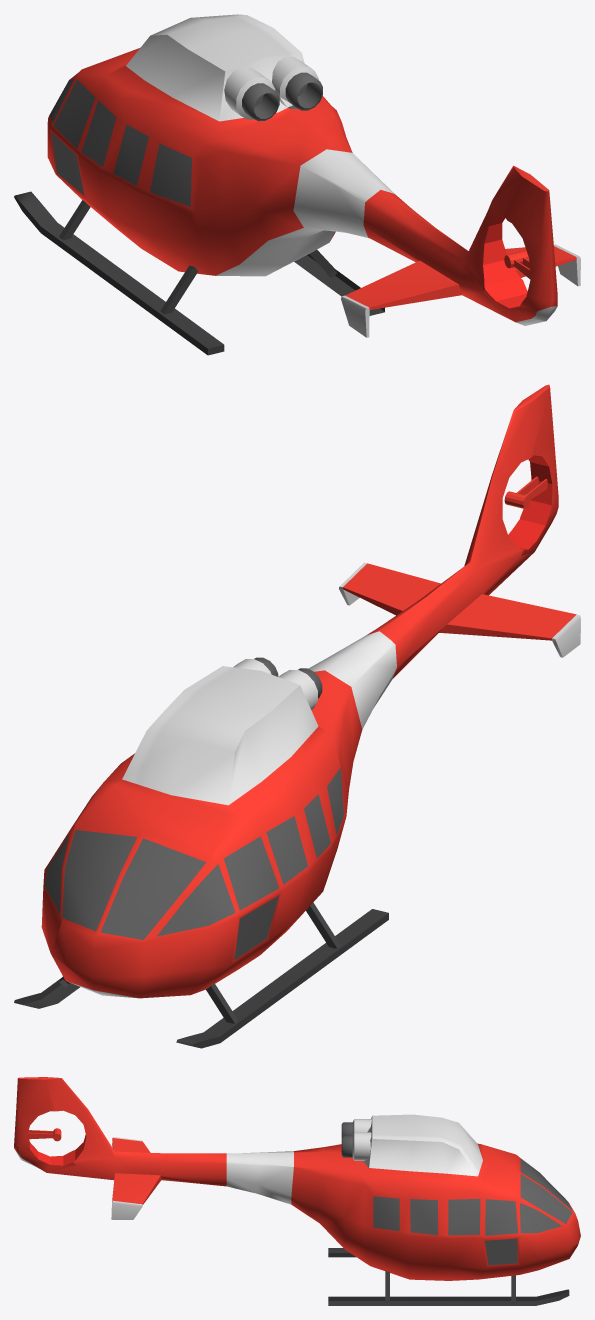
The model's file is HelicopterBody.obj.
3 views of the same model, one above another, from view 1: azimuth 30°, elevation 25°; view 2: azimuth 150°, elevation 25°; view 3: azimuth 270°, elevation 25° (orthographic). The views are drawn at different scales.
Parts seen in each view (by area): view 1: Copter, Legs, Cylinder, Tail_part; view 2: Copter, Legs, Cylinder; view 3: Copter, Legs, Cylinder, Tail_part.
Part boxes in pixels (left/top/right/bottom): Copter: left=47, top=14, right=580, bottom=337; Legs: left=14, top=191, right=384, bottom=355; Cylinder: left=483, top=215, right=527, bottom=308; Tail_part: left=504, top=251, right=530, bottom=279; Copter: left=41, top=384, right=580, bottom=998; Legs: left=14, top=902, right=388, bottom=1048; Cylinder: left=508, top=455, right=552, bottom=549; Copter: left=14, top=1077, right=580, bottom=1280; Legs: left=328, top=1248, right=569, bottom=1305; Cylinder: left=27, top=1134, right=86, bottom=1165; Tail_part: left=27, top=1128, right=61, bottom=1141.
Size of the model in its own units: 10.56 by 15.21 by 38.71.
Materials: 1 (1 with a texture image).
